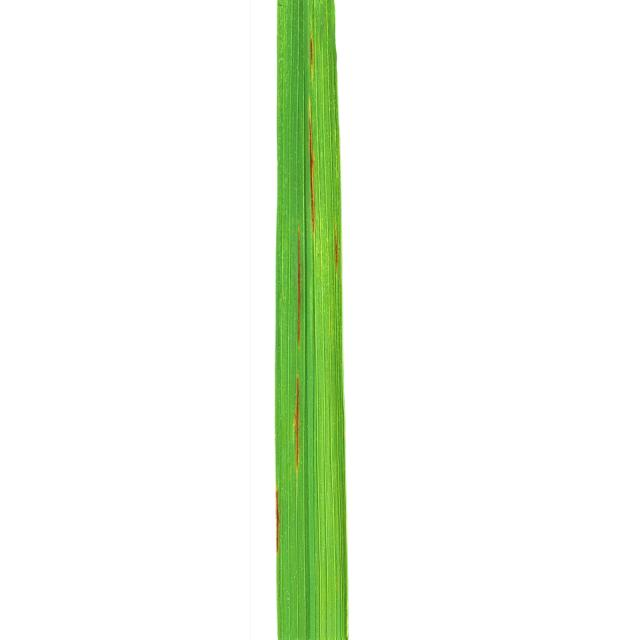Narrow brown: (245, 3, 500, 637)
